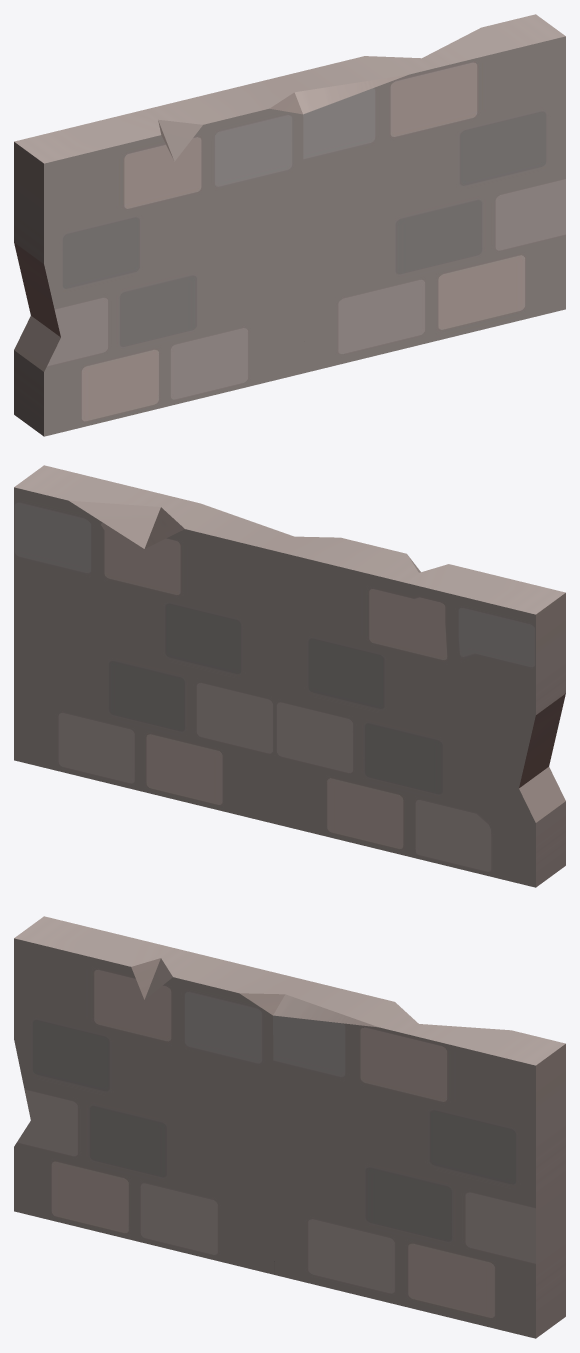
File: SM_SmallWall_04.fbx
3 views of the same model, one above another, from view 1: azimuth 30°, elevation 25°; view 2: azimuth 150°, elevation 25°; view 3: azimuth 330°, elevation 25° (orthographic).
Parts seen in each view (by area): view 1: SM_SmallWall_04; view 2: SM_SmallWall_04; view 3: SM_SmallWall_04.
Part boxes in pixels (<box>): SM_SmallWall_04: <box>14,14,565,436</box>; SM_SmallWall_04: <box>14,465,565,887</box>; SM_SmallWall_04: <box>14,916,565,1338</box>.
Size of the model in its own units: 2 by 1 by 0.2.
